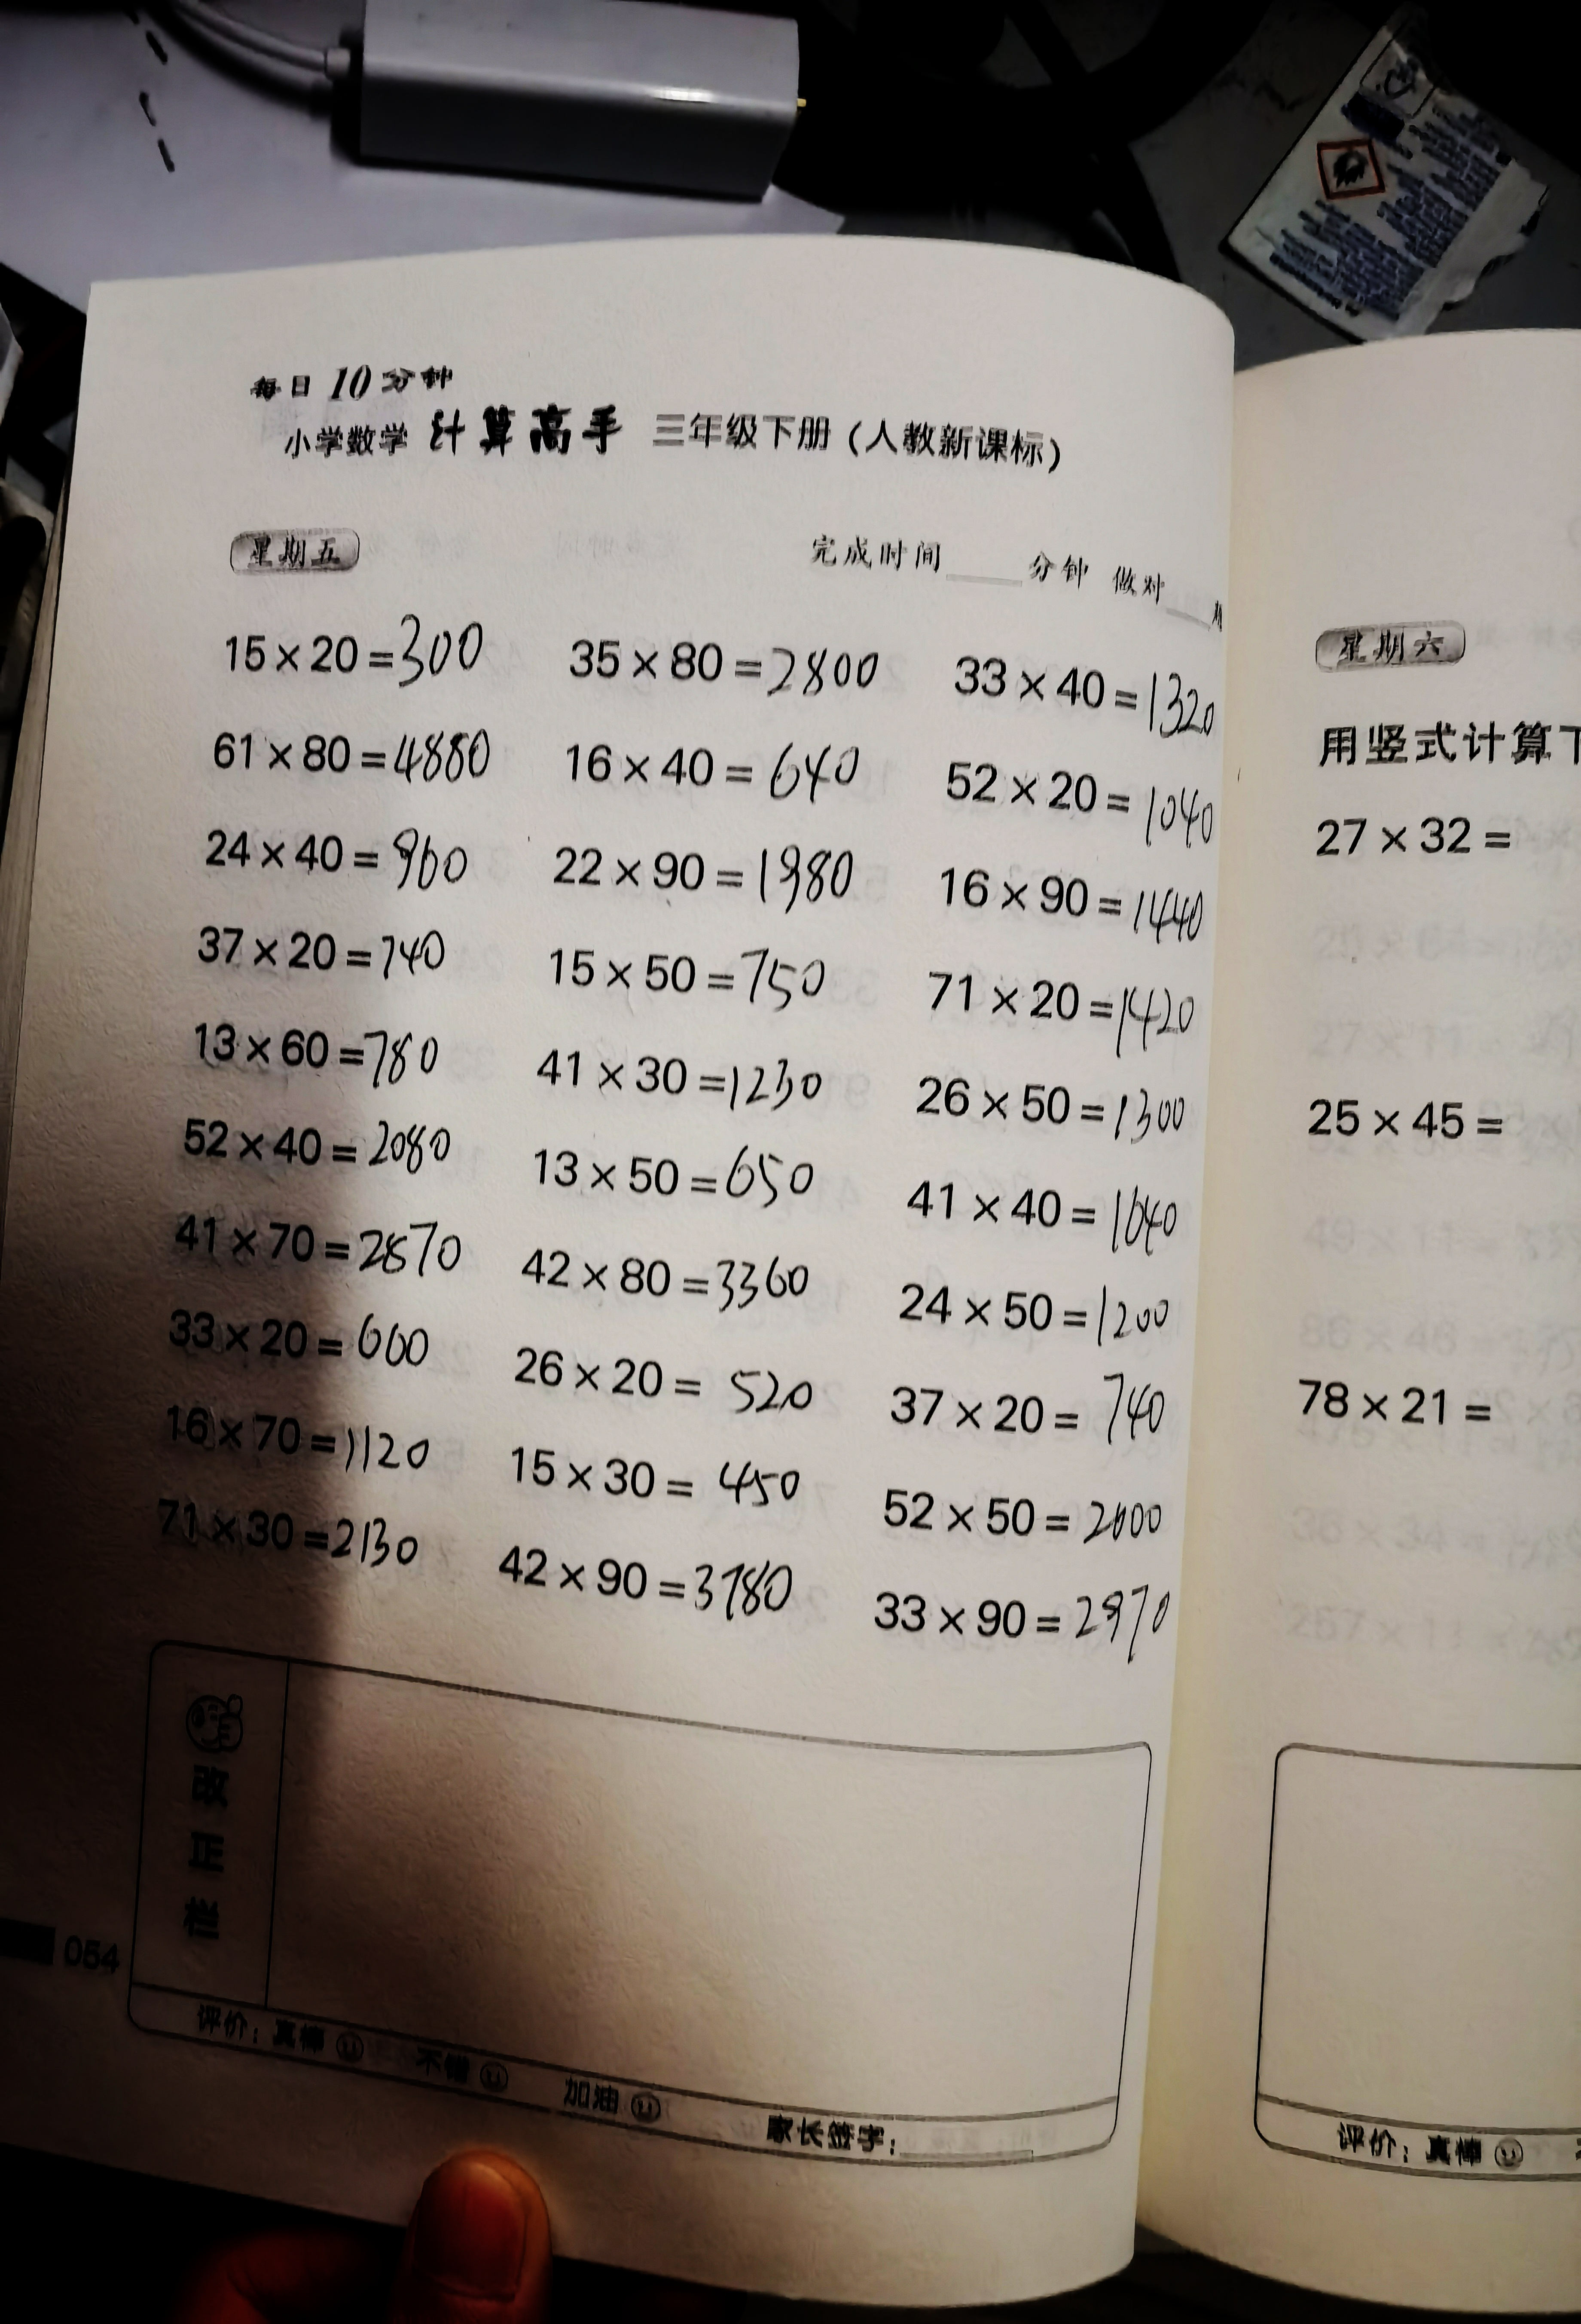equation: (475, 1523, 820, 1645), (942, 623, 1246, 757), (923, 750, 1248, 870), (187, 792, 498, 911), (131, 1456, 445, 1571), (907, 944, 1225, 1057), (549, 607, 898, 709), (556, 713, 880, 821), (535, 919, 854, 1027), (136, 1366, 446, 1475), (506, 1323, 835, 1426), (914, 852, 1251, 951), (852, 1458, 1196, 1553), (528, 1032, 852, 1133), (896, 1059, 1218, 1158), (866, 1359, 1193, 1456), (858, 1571, 1195, 1664), (176, 997, 478, 1101), (510, 1228, 845, 1322), (533, 1136, 845, 1235), (175, 1186, 471, 1288), (540, 822, 856, 918), (175, 1099, 487, 1189), (886, 1179, 1223, 1262), (870, 1271, 1193, 1357), (184, 896, 499, 985), (501, 1431, 806, 1518), (182, 692, 501, 773), (212, 605, 506, 692), (145, 1283, 452, 1366)
